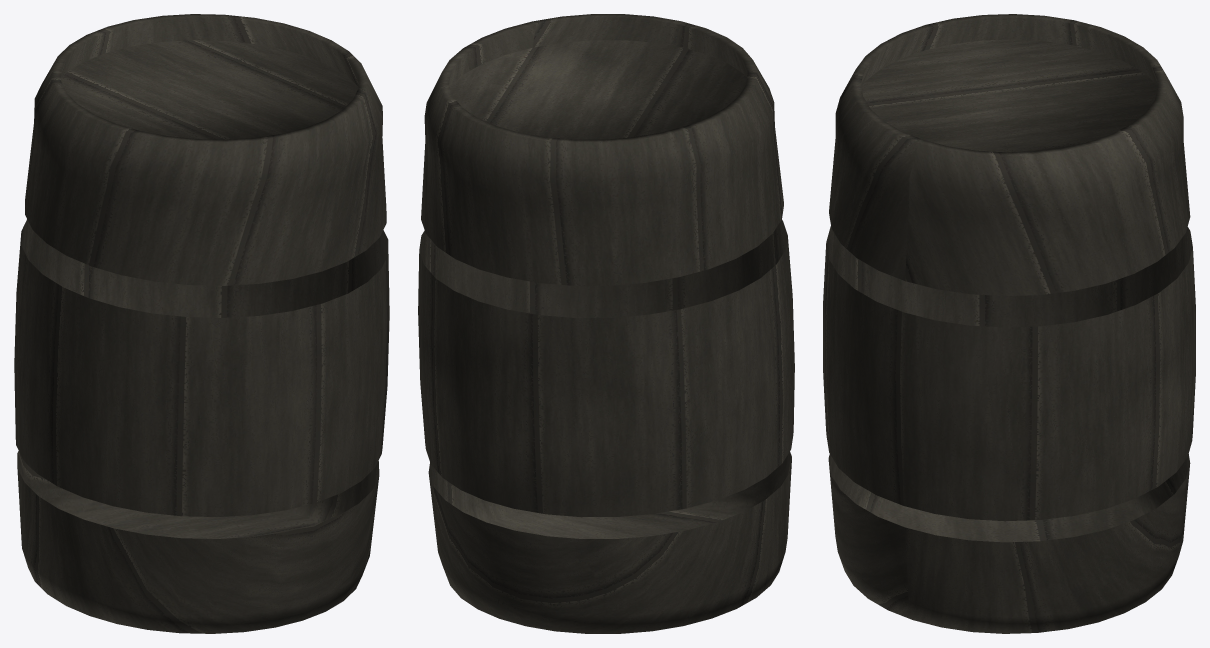
The model's file is circle.028_lev3.glb.
The picture shows the model from 3 angles, left to right: view 1: azimuth 30°, elevation 25°; view 2: azimuth 150°, elevation 25°; view 3: azimuth 270°, elevation 25°; orthographic projection.
Parts seen in each view (by area): view 1: circle.028_lev3; view 2: circle.028_lev3; view 3: circle.028_lev3.
Part boxes in pixels (x1,y1,x2,y2): circle.028_lev3: [14, 14, 389, 633]; circle.028_lev3: [418, 14, 794, 633]; circle.028_lev3: [823, 14, 1195, 633].
Bounding box in the file's own units: 0.3327 × 0.4794 × 0.3307.
1 material, 1 textured.
